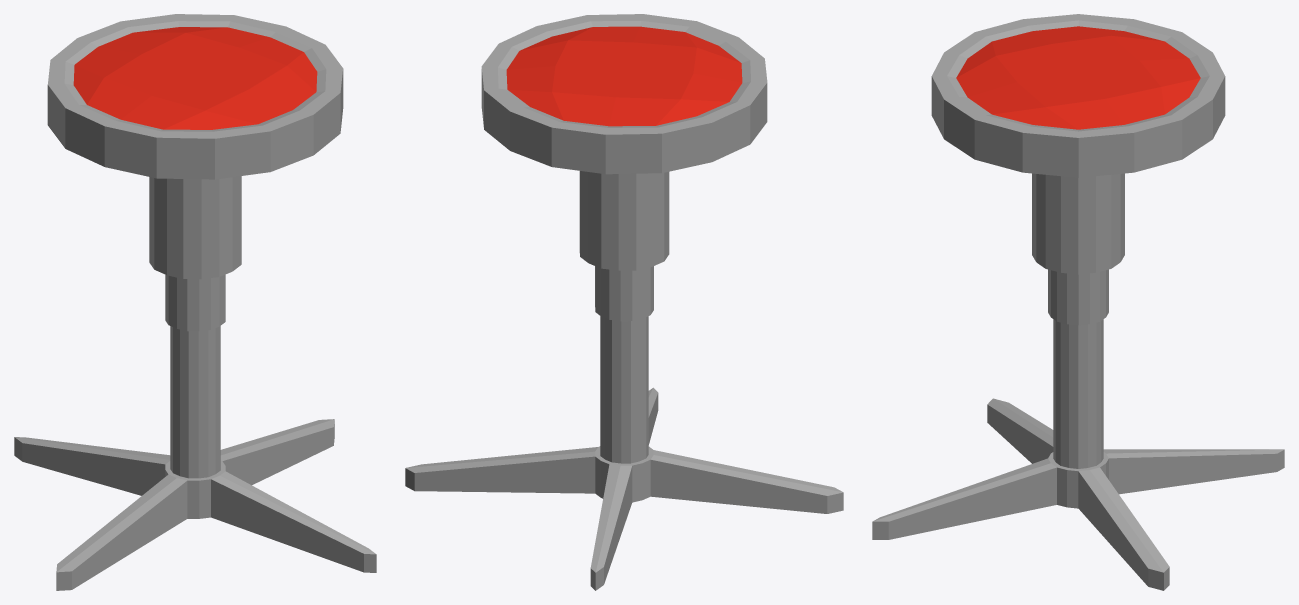
Rendered from ChairB.fbx.
The picture shows the model from 3 angles, left to right: view 1: azimuth 30°, elevation 25°; view 2: azimuth 150°, elevation 25°; view 3: azimuth 270°, elevation 25°; orthographic projection. The views are drawn at different scales.
Parts seen in each view (by area): view 1: CircularTable.001; view 2: CircularTable.001; view 3: CircularTable.001.
Part boxes in pixels (<box>): CircularTable.001: <box>14,14,376,590</box>; CircularTable.001: <box>405,14,843,590</box>; CircularTable.001: <box>872,14,1284,590</box>.
Bounding box in the file's own units: 54.36 × 62.87 × 54.36.
